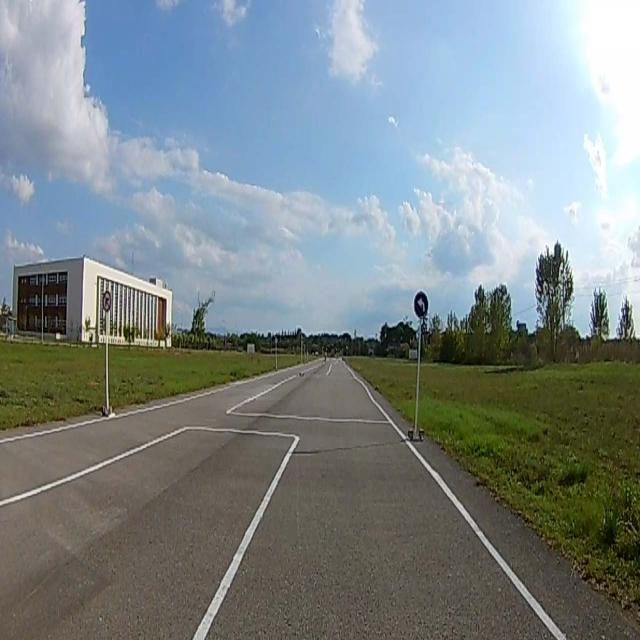sagadonulmez: (103, 292, 111, 310)
sol: (414, 294, 427, 318)
